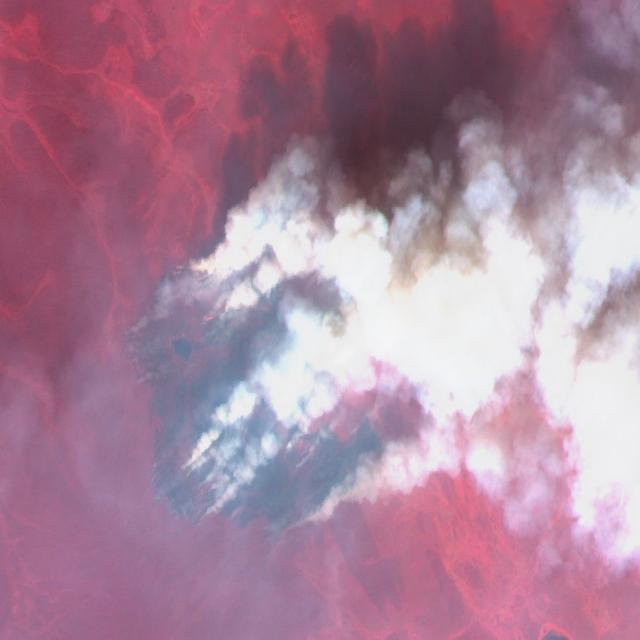fire: (113, 236, 397, 544)
